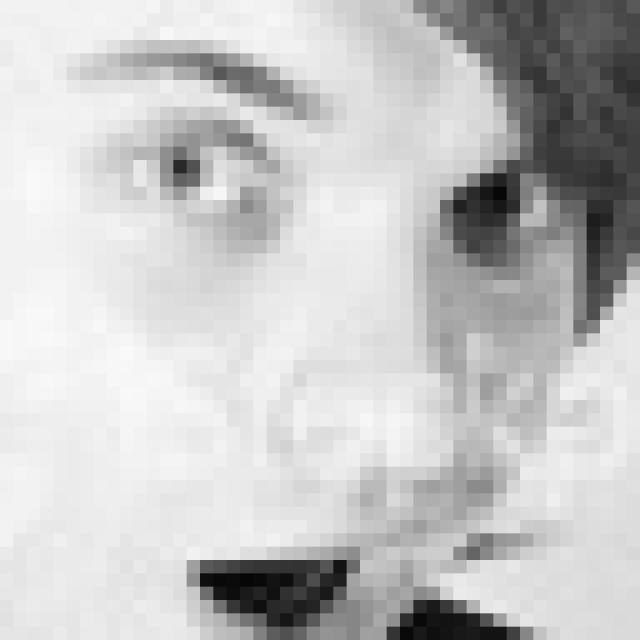surprise: (79, 31, 582, 640)
